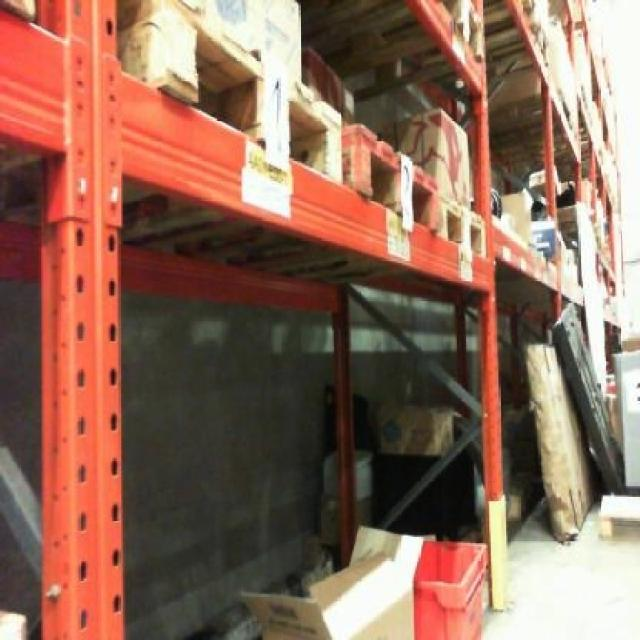pallets: (243, 552, 412, 637)
